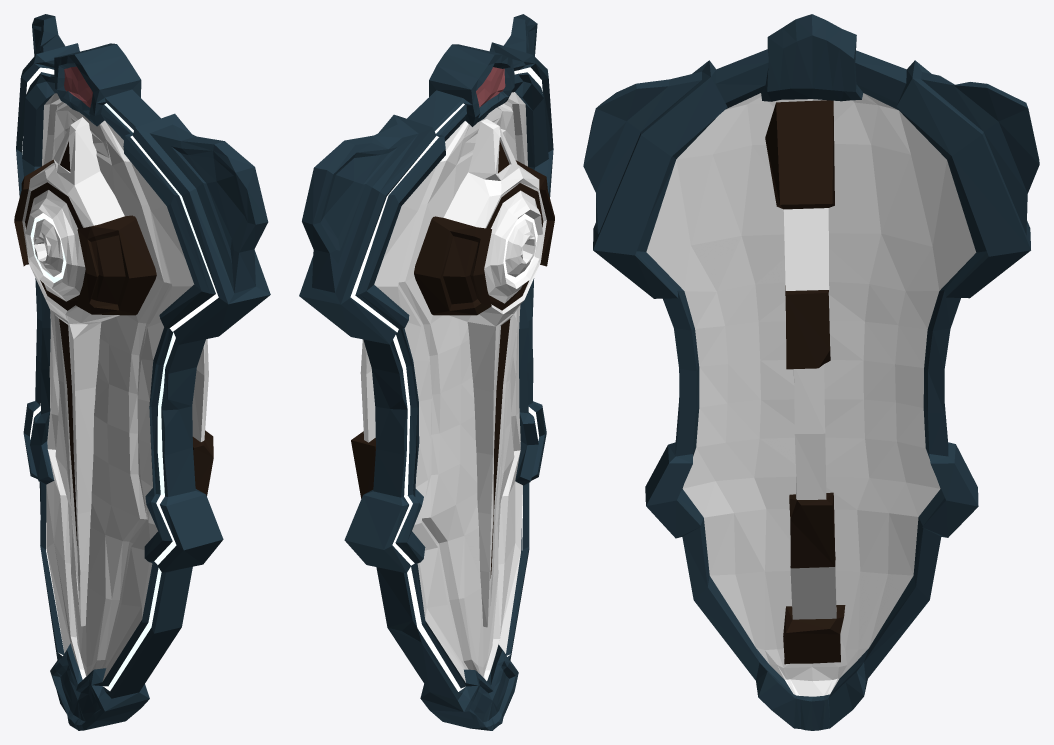
Rendered from SFFA_Shield_Stylized_002.fbx.
3 views of the same model, side by side, from view 1: azimuth 30°, elevation 25°; view 2: azimuth 150°, elevation 25°; view 3: azimuth 270°, elevation 25° (orthographic). The views are drawn at different scales.
Parts seen in each view (by area): view 1: SFFA_Shield_Stylized_002; view 2: SFFA_Shield_Stylized_002; view 3: SFFA_Shield_Stylized_002.
Boxes of the visible parts, x1,y1,x2,y2 form: SFFA_Shield_Stylized_002: (14, 14, 270, 730); SFFA_Shield_Stylized_002: (299, 14, 554, 730); SFFA_Shield_Stylized_002: (583, 14, 1039, 730).
Size of the model in its own units: 35.27 by 135 by 80.25.
